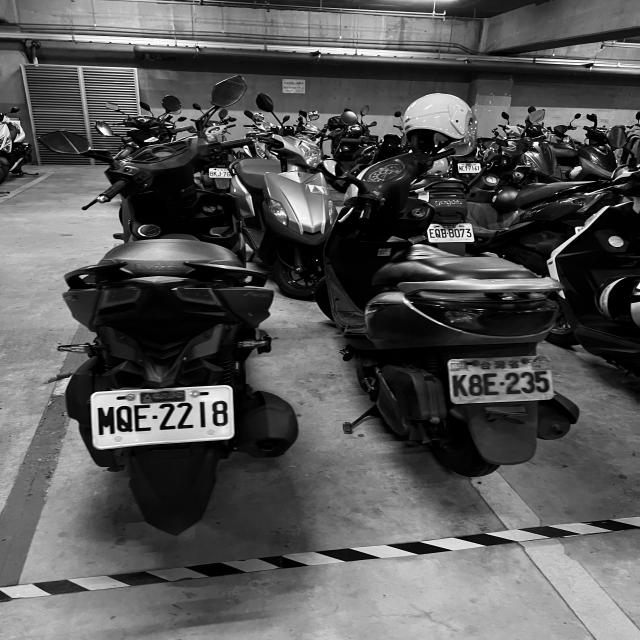-: (151, 412, 159, 420), (500, 380, 506, 388), (447, 232, 449, 234), (467, 167, 469, 169), (221, 173, 223, 175)
0: (454, 228, 461, 238)
1: (198, 401, 208, 428), (478, 166, 480, 170), (472, 166, 474, 170)
2: (158, 402, 177, 430), (177, 402, 195, 429), (505, 372, 521, 394)
3: (521, 372, 535, 394), (466, 228, 472, 238)
5: (534, 369, 550, 393)
6: (227, 172, 230, 176), (475, 166, 477, 170)
7: (460, 228, 464, 238), (222, 172, 226, 176), (468, 166, 471, 170)
8: (212, 398, 228, 428), (468, 374, 484, 396), (448, 228, 455, 238)
B: (440, 228, 447, 238)
C: (462, 166, 465, 170)
E: (133, 404, 153, 432), (482, 372, 500, 396)
J: (218, 172, 222, 176)
K: (452, 374, 468, 397), (214, 172, 218, 176)
M: (96, 405, 116, 435)
N: (459, 166, 462, 170)
Q: (116, 404, 133, 432), (435, 229, 442, 238), (429, 229, 435, 238)
Y: (464, 166, 468, 170)
plate: (94, 388, 234, 441), (448, 360, 552, 400), (427, 224, 474, 242), (458, 164, 481, 172)
